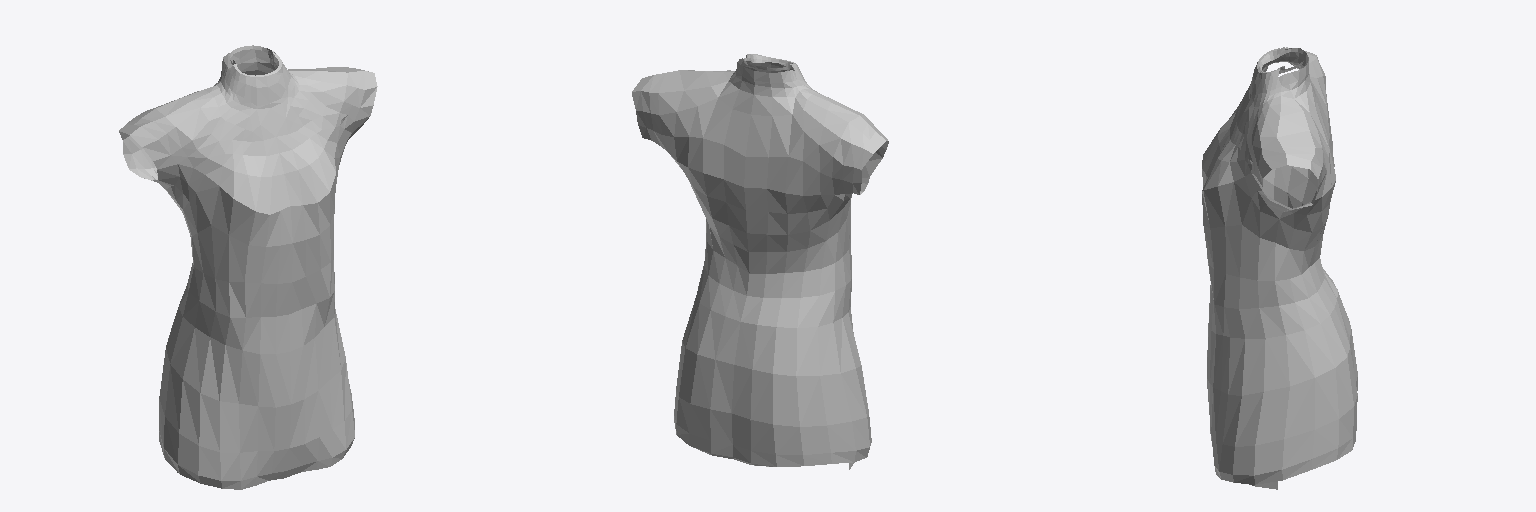
The model's file is body.obj.
3 renders of one model, left to right at view 1: azimuth 30°, elevation 25°; view 2: azimuth 150°, elevation 25°; view 3: azimuth 270°, elevation 25°, orthographic.
Parts seen in each view (by area): view 1: polySurface1 body:hand1_hand1_Mesh; view 2: polySurface1 body:hand1_hand1_Mesh; view 3: polySurface1 body:hand1_hand1_Mesh.
Boxes of the visible parts, x1,y1,x2,y2 form: polySurface1 body:hand1_hand1_Mesh: [119, 45, 377, 489]; polySurface1 body:hand1_hand1_Mesh: [632, 54, 888, 466]; polySurface1 body:hand1_hand1_Mesh: [1202, 47, 1357, 484].
Size of the model in its own units: 0.3494 by 0.5462 by 0.1934.